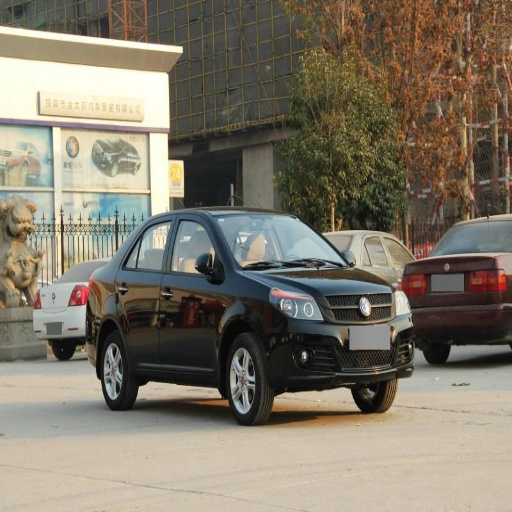back_right_door: (116, 217, 174, 366)
front_bumper: (269, 295, 398, 382)
front_right_door: (160, 217, 220, 370)
front_right_light: (271, 289, 322, 320)
